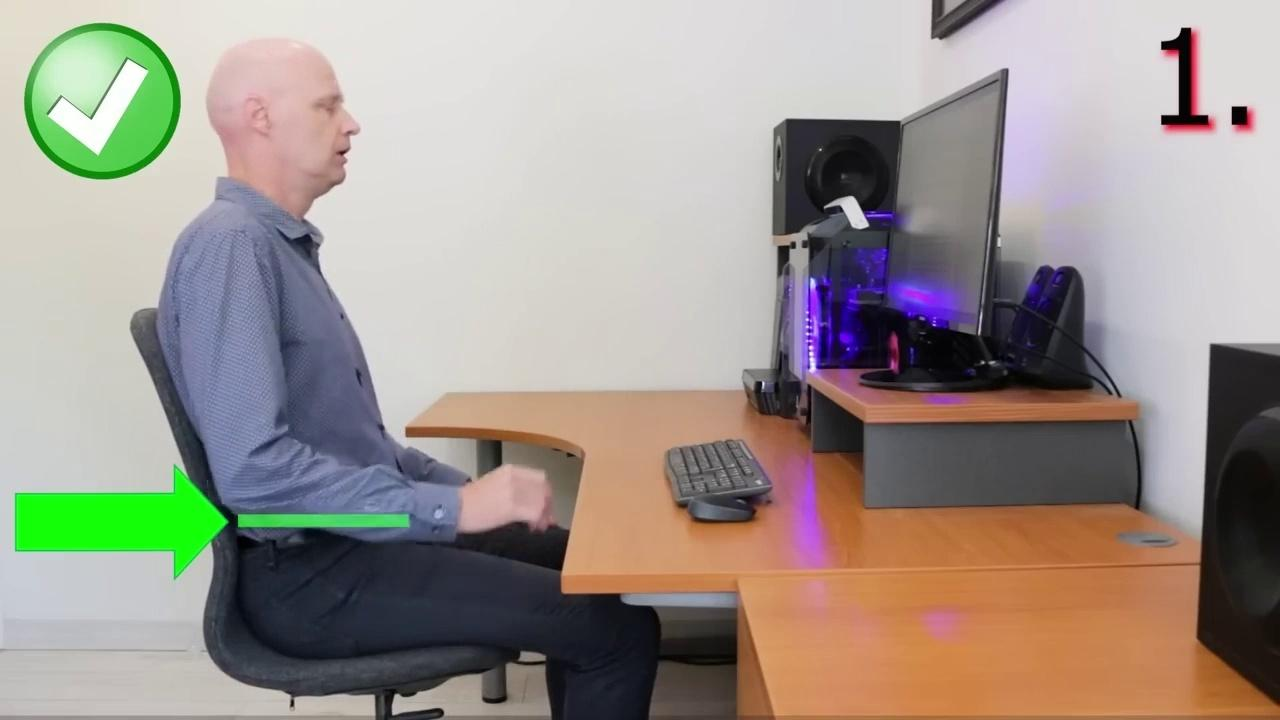GoodPosture: (153, 38, 657, 719)
